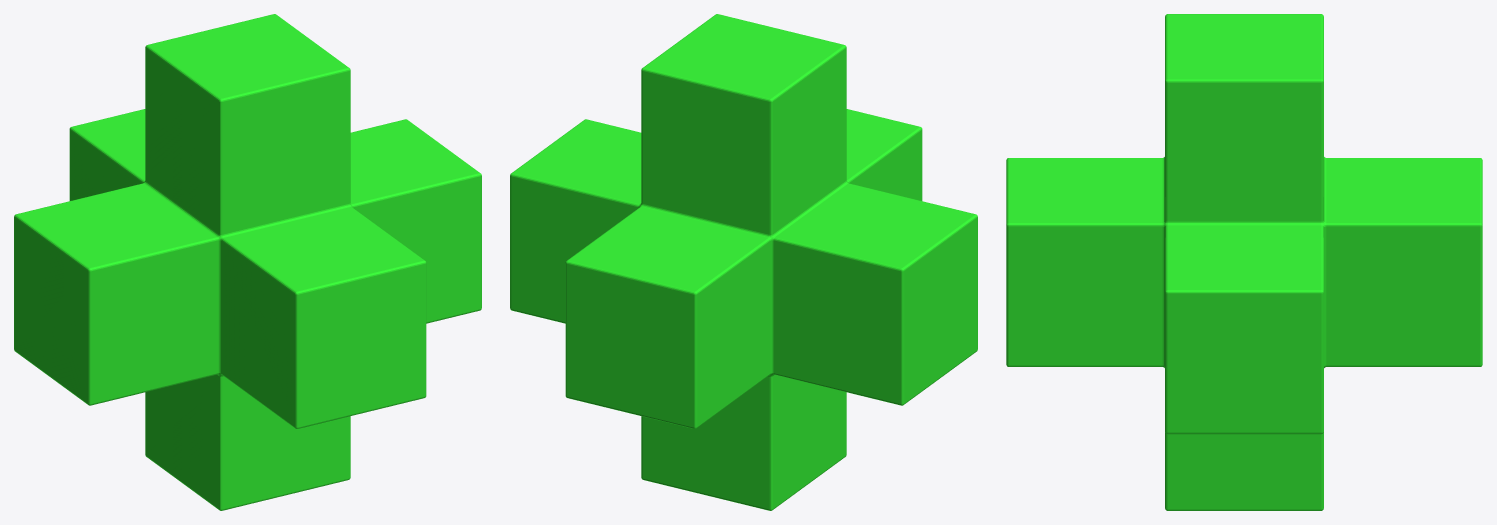
File: Pluscube.obj
3 views of the same model, side by side, from view 1: azimuth 30°, elevation 25°; view 2: azimuth 150°, elevation 25°; view 3: azimuth 270°, elevation 25° (orthographic). The views are drawn at different scales.
Parts seen in each view (by area): view 1: Pluscube; view 2: Pluscube; view 3: Pluscube.
Part boxes in pixels (x1,y1,x2,y2): Pluscube: (14, 14, 481, 510); Pluscube: (510, 14, 977, 510); Pluscube: (1006, 14, 1482, 510).
Size of the model in its own units: 1 by 1 by 1.
